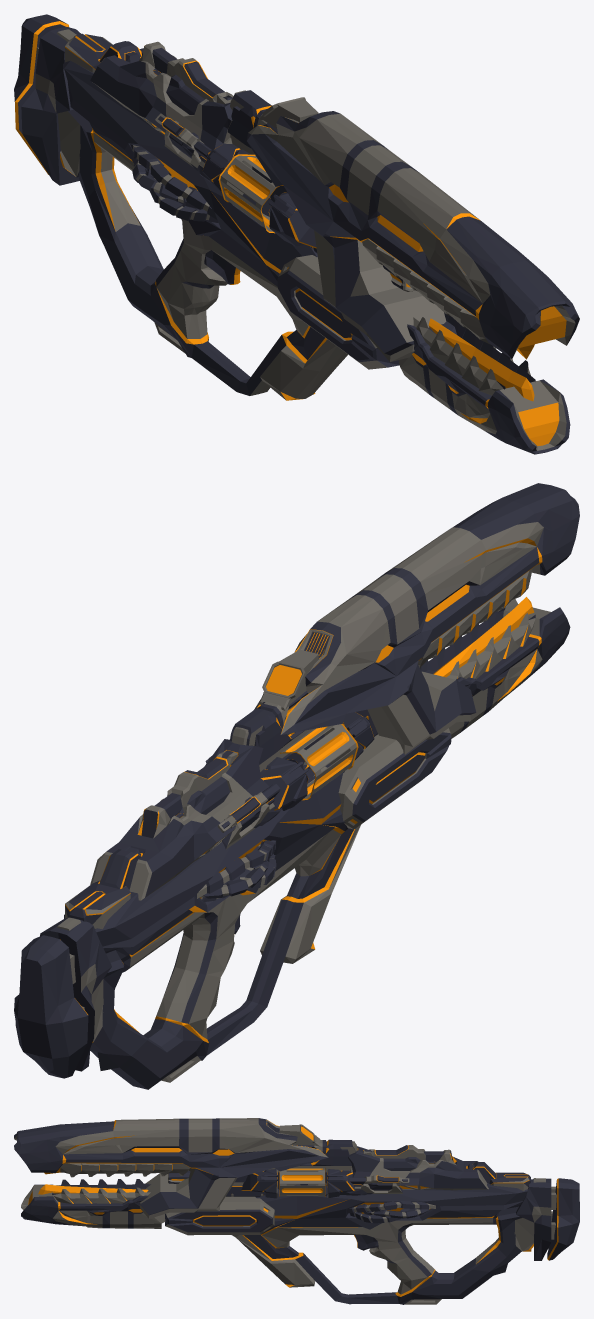
The model's file is VolleyCannon.fbx.
3 renders of one model, top to bottom at view 1: azimuth 30°, elevation 25°; view 2: azimuth 150°, elevation 25°; view 3: azimuth 270°, elevation 25°, orthographic. The views are drawn at different scales.
Visible parts, largest first — view 1: KRV-VolleyCasterBody.001; view 2: KRV-VolleyCasterBody.001; view 3: KRV-VolleyCasterBody.001.
Boxes of the visible parts, left/top/right/bottom form: KRV-VolleyCasterBody.001: left=14, top=14, right=579, bottom=454; KRV-VolleyCasterBody.001: left=14, top=483, right=579, bottom=1089; KRV-VolleyCasterBody.001: left=14, top=1118, right=579, bottom=1304.
Size of the model in its own units: 11.9 by 32.6 by 91.3.
